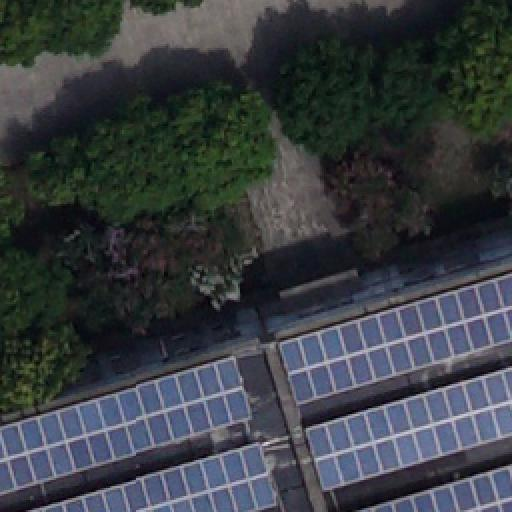solar-panel: (1, 354, 255, 494), (280, 270, 512, 406), (304, 364, 512, 492), (20, 440, 280, 512), (353, 464, 511, 512)
